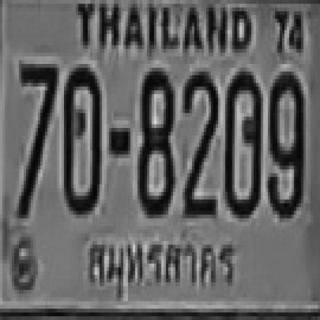N00: (62, 64, 100, 211), (223, 68, 261, 215)
N02: (181, 70, 217, 216)
N07: (17, 60, 57, 215), (17, 60, 57, 166)
N08: (135, 68, 173, 215)
N09: (267, 68, 302, 215)
P58: (79, 227, 240, 303)
